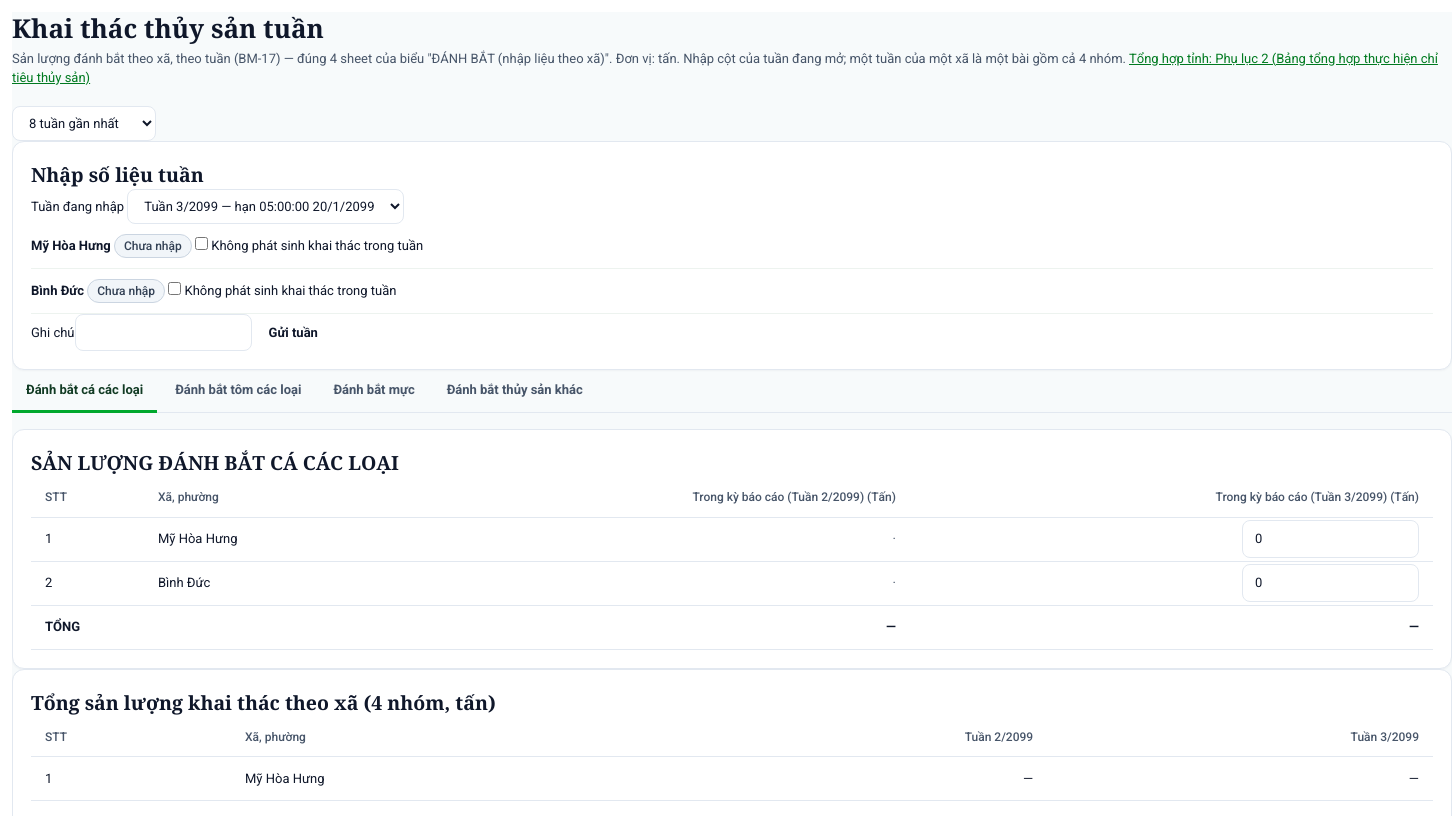
Test case: màn Khai thác thủy sản tuần › mất phản hồi ở xã thứ hai: bấm lại phát lại cả hai bằng đúng khóa cũ, hoàn tất, cả hai hiện đã nộp
The image size is (1452, 816).
Click the button "Gửi tuần": click(293, 333) x1=252 y1=314 x2=335 y2=351
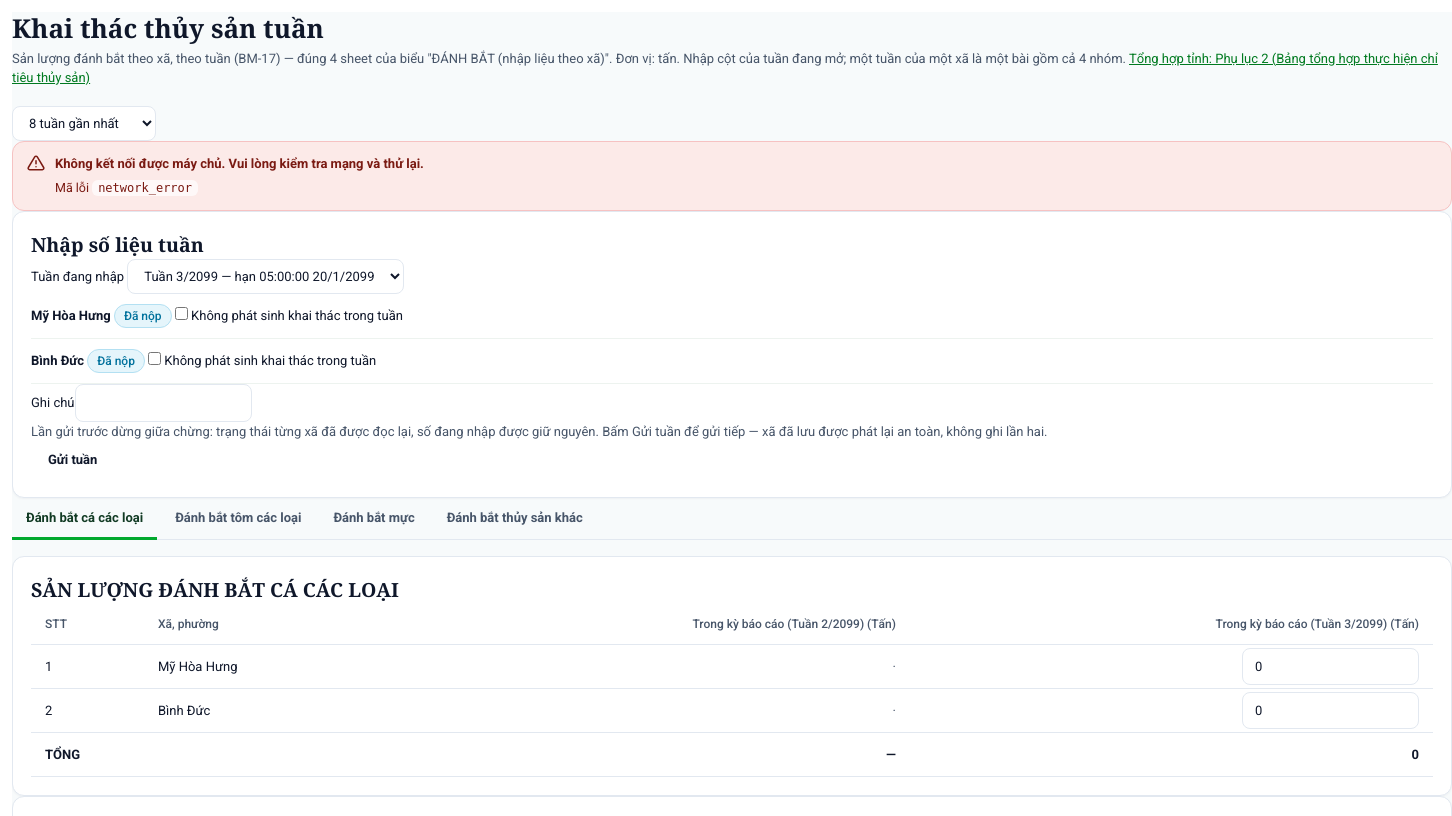
Check: the 1st text "Đã nộp" is shown, box x1=114 y1=304 x2=172 y2=328
Check: the 2nd text "Đã nộp" is shown, box x1=87 y1=349 x2=145 y2=373
Check: the text "Lần gửi trước dừng giữa chừng" is shown, box x1=31 y1=424 x2=1048 y2=438
Click the button "Gửi tuần": click(73, 460) x1=31 y1=441 x2=114 y2=478
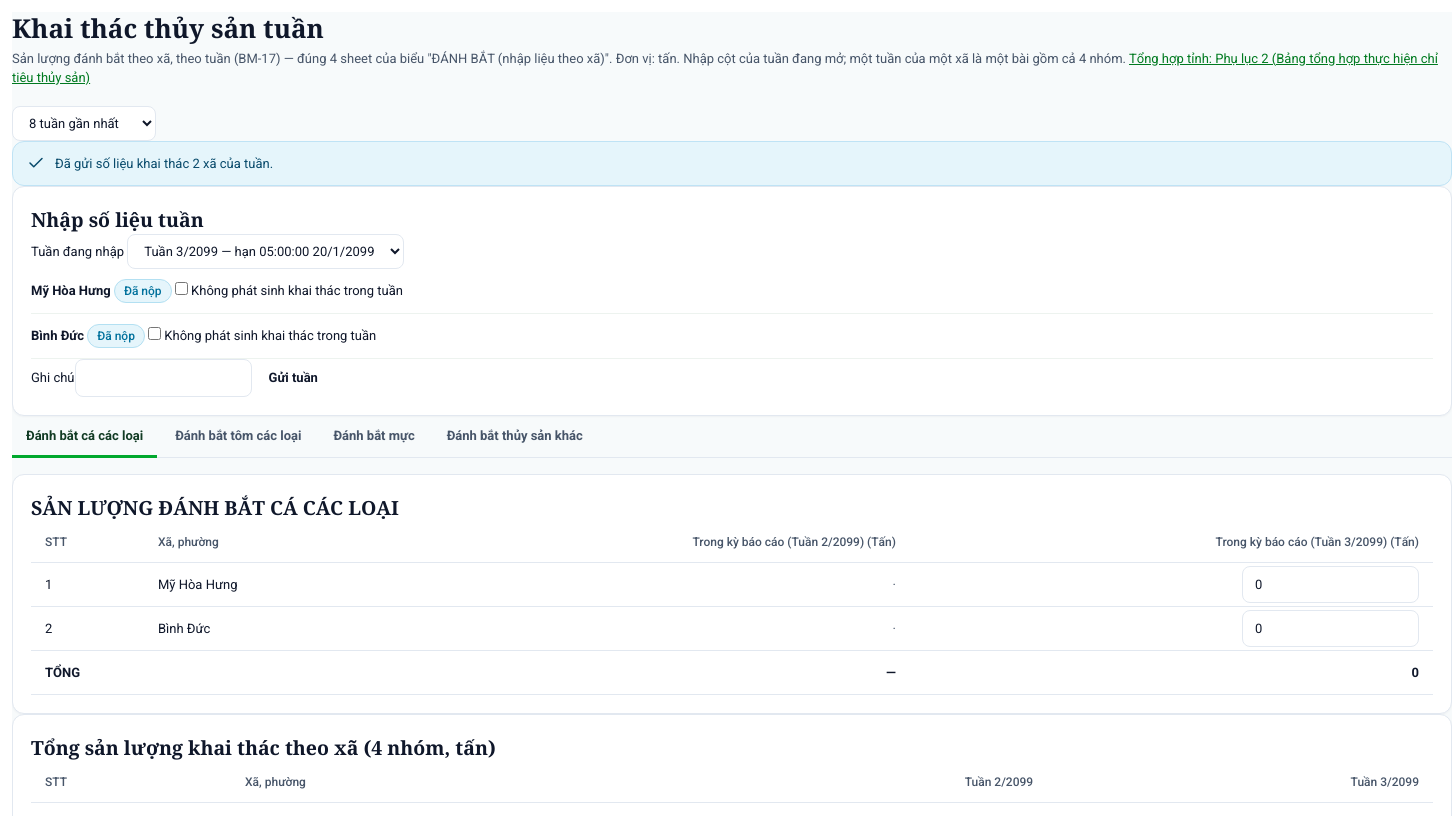
Check: the text "Đã gửi số liệu khai thác 2 xã của tuần." is shown, box x1=55 y1=154 x2=273 y2=173
